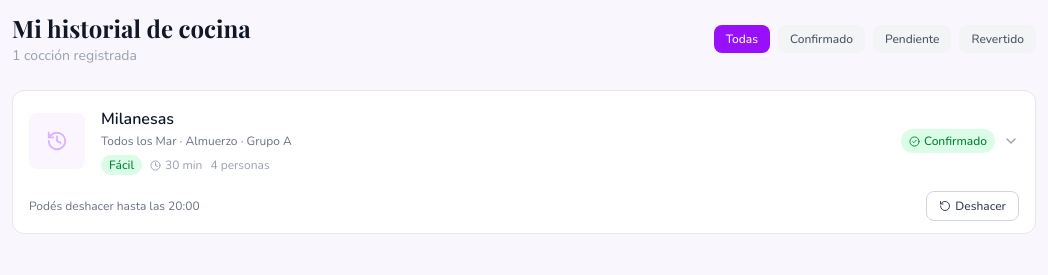
Test: ResidenteHistorialPage — deshacer cocción › muestra el error del servidor si no se pudo deshacer
This screenshot has width=1048, height=275.
Step 1. Click the button "Deshacer" → (973,206), box top-left (926, 191), bottom-right (1019, 221)
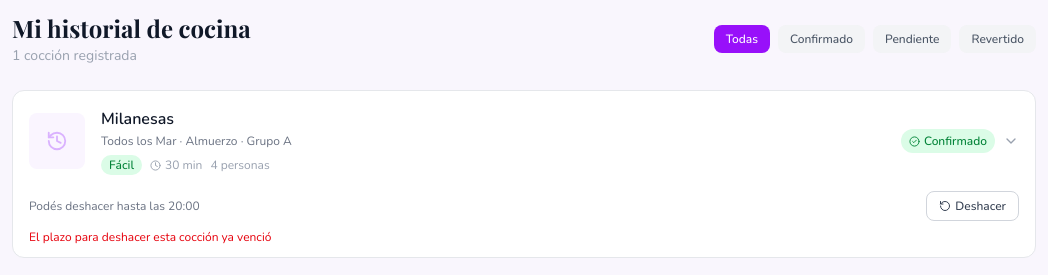
Check: the text "El plazo para deshacer esta cocción ya venció" is shown, box top-left (29, 229), bottom-right (271, 245)
